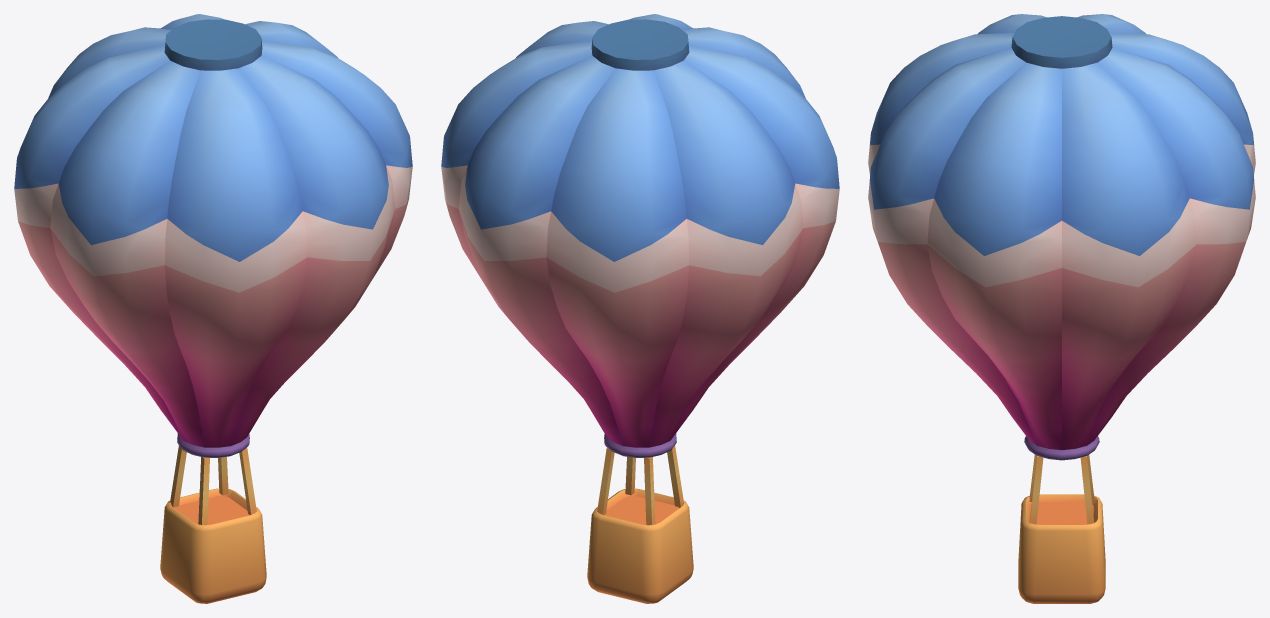
File: Balloons-1.fbx
3 renders of one model, left to right at view 1: azimuth 30°, elevation 25°; view 2: azimuth 150°, elevation 25°; view 3: azimuth 270°, elevation 25°, orthographic.
Visible parts, largest first — view 1: Ballons-1; view 2: Ballons-1; view 3: Ballons-1.
Boxes of the visible parts, bbox=[...] form: Ballons-1: bbox=[14, 14, 412, 603]; Ballons-1: bbox=[441, 14, 839, 603]; Ballons-1: bbox=[868, 14, 1255, 603].
Bounding box in the file's own units: 1032 × 1623 × 1030.
